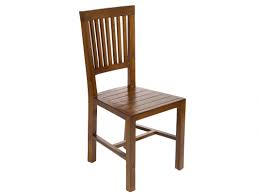tiyarina: (77, 3, 188, 193)
